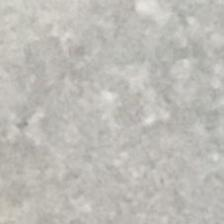Non_Crack: (35, 25, 190, 178)
